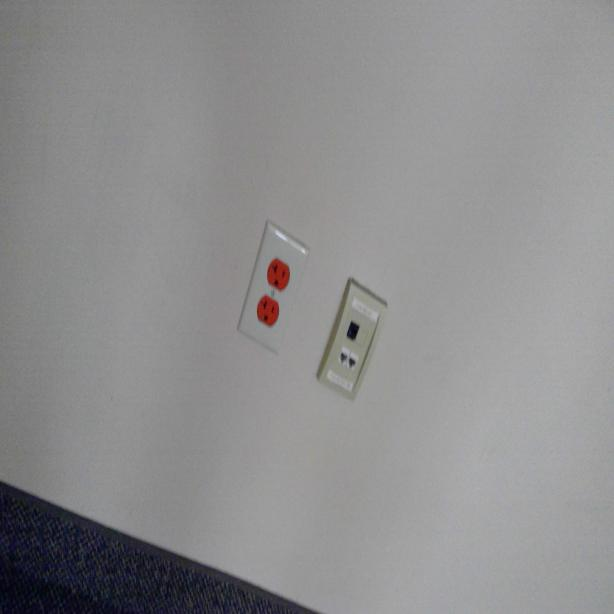typeb: (266, 252, 293, 288), (258, 295, 279, 331)
